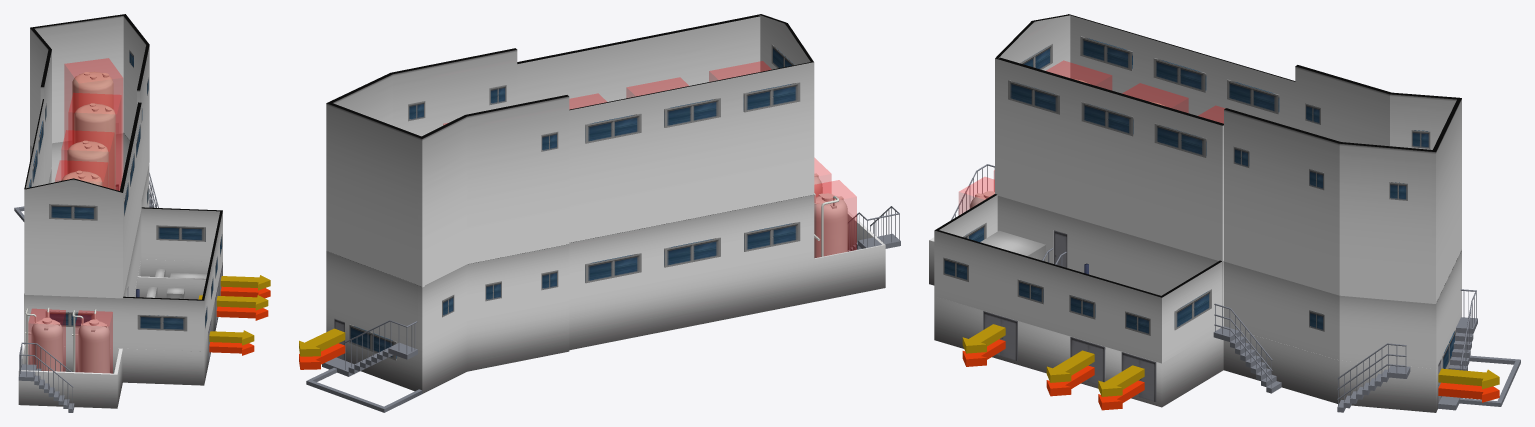
Rendered from soulbrain_T6-2-2F.glb.
3 views of the same model, side by side, from view 1: azimuth 30°, elevation 25°; view 2: azimuth 150°, elevation 25°; view 3: azimuth 270°, elevation 25° (orthographic). The views are drawn at different scales.
Visible parts, largest first — view 1: Box039, Box039 (1), ChamferCyl059, T6-2-1F, equipment-T6-2-1F-001, equipment-T6-2-1F-002, equipment-T6-2-1F-003, Box211 (1), equipment-T6-2-1F-007, equipment-T6-2-1F-006, Line098, Box211 (+9 smaller); view 2: Box039, Box039 (1), Box211, Box211 (1), T6-2-1F, Line098, equipment-T6-2-1F-006, Line100, arrow_Y_1_T6-2-1F, equipment-T6-2-1F-004, equipment-T6-2-1F-005, arrow_R_1_T6-2-1F; view 3: Box039, Box039 (1), Box211, Line098, Box211 (1), Box044, Box224, equipment-T6-2-1F-004, equipment-T6-2-1F-005, arrow_Y_1_T6-2-1F, arrow_Y_3_T6-2-1F, arrow_R_1_T6-2-1F (+8 smaller).
Part boxes in pixels (x1,y1,x2,y2): Box039: (24, 14, 149, 298); Box039 (1): (18, 133, 222, 408); ChamferCyl059: (61, 71, 115, 189); T6-2-1F: (25, 184, 118, 373); equipment-T6-2-1F-001: (64, 58, 122, 190); equipment-T6-2-1F-002: (68, 93, 121, 190); equipment-T6-2-1F-003: (61, 130, 114, 188); Box211 (1): (45, 186, 222, 331); equipment-T6-2-1F-007: (75, 310, 112, 373); equipment-T6-2-1F-006: (28, 309, 65, 371); Line098: (18, 172, 158, 412); Box211: (28, 50, 148, 220); Box039: (326, 14, 814, 287); Box039 (1): (326, 194, 885, 393); Box211: (408, 44, 800, 151); Box211 (1): (442, 222, 800, 317); T6-2-1F: (334, 173, 847, 360); Line098: (322, 206, 900, 376); equipment-T6-2-1F-006: (814, 180, 856, 257); Line100: (306, 367, 422, 412); arrow_Y_1_T6-2-1F: (299, 328, 345, 356); equipment-T6-2-1F-004: (626, 77, 688, 97); equipment-T6-2-1F-005: (709, 61, 771, 81); arrow_R_1_T6-2-1F: (299, 343, 345, 369); Box039: (995, 14, 1461, 303); Box039 (1): (929, 194, 1461, 412); Box211: (1008, 36, 1430, 200); Line098: (951, 164, 1477, 412); Box211 (1): (943, 222, 1324, 335); Box044: (983, 311, 1156, 401); Box224: (980, 230, 1045, 261); equipment-T6-2-1F-004: (1122, 83, 1188, 112); equipment-T6-2-1F-005: (1046, 60, 1111, 89); arrow_Y_1_T6-2-1F: (1438, 368, 1499, 389); arrow_Y_3_T6-2-1F: (1046, 350, 1094, 382); arrow_R_1_T6-2-1F: (1438, 382, 1499, 402).
Bounding box in the file's own units: 20.95 × 13.62 × 28.01.
Materials: 20 (14 with a texture image).
